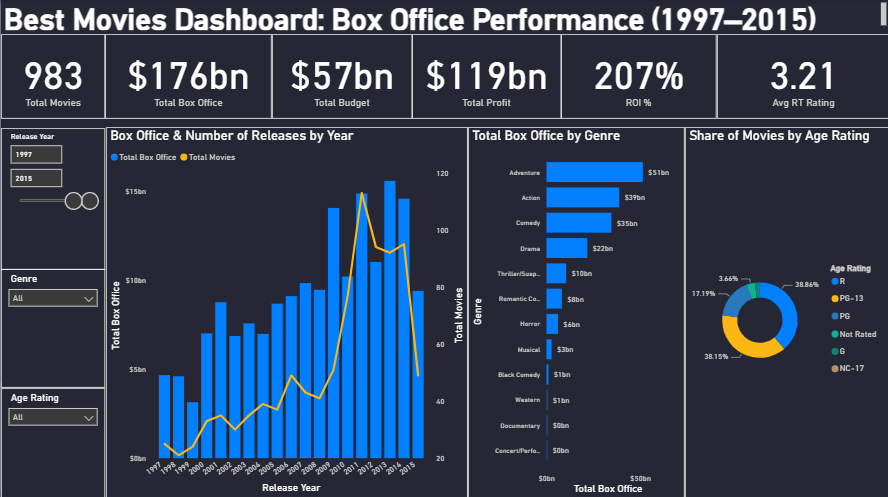

What the dashboard file says about the page in this screenshot:
{"tool":"powerbi","page":{"name":"Overview","canvas":[1280,720],"ordinal":0},"visuals":[{"type":"textbox","box":[0,0,1280,50],"z":0},{"type":"card","fields":{"Values":["Movies Measures.Total Movies"]},"box":[0,50.1,150.4,122.1],"z":1000},{"type":"card","fields":{"Values":["Movies Measures.Total Box Office"]},"box":[150.4,50.1,240.3,122.1],"z":2000},{"type":"card","fields":{"Values":["Movies Measures.Total Budget"]},"box":[390.7,50.1,201.8,122.1],"z":3000},{"type":"card","fields":{"Values":["Movies Measures.Total Profit"]},"box":[592.4,50.1,214.6,122.1],"z":4000},{"type":"card","fields":{"Values":["Movies Measures.ROI %"]},"box":[807.1,50.1,223.6,122.1],"z":5000},{"type":"card","fields":{"Values":["Movies Measures.Avg RT Rating"]},"box":[1030.7,50.1,249.3,122.1],"z":6000},{"type":"slicer","fields":{"Values":["Movies.Release Year"]},"box":[0,185.1,150.4,204.3],"z":7000},{"type":"slicer","fields":{"Values":["Movies.Genre"]},"box":[0,389.4,150.4,170.9],"z":8000},{"type":"slicer","fields":{"Values":["Movies.Age Rating"]},"box":[0,560.3,150.4,159.4],"z":9000},{"type":"lineClusteredColumnComboChart","title":"Box Office & Number of Releases by Year","fields":{"Category":["Movies.Release Year"],"Y":["Movies Measures.Total Box Office"],"Y2":["Movies Measures.Total Movies"]},"box":[151.2,184.8,520.7,534.2],"z":10000},{"type":"clusteredBarChart","fields":{"Category":["Movies.Genre"],"Y":["Movies Measures.Total Box Office"]},"box":[671.9,184.8,312.4,534.2],"z":11000},{"type":"donutChart","title":"Share of Movies by Age Rating","fields":{"Category":["Movies.Age Rating"],"Y":["Movies Measures.Total Movies"]},"box":[984.4,184.8,295.6,534.2],"z":12000}]}

Visuals, with their boxes in screenshot pixels (x1, y1, x2, y2), scaled from the page's 1280x720 canvas onto the 888x497 screenshot:
textbox: [left=0, top=0, right=887, bottom=35]
card - Movies Measures.Total Movies: [left=0, top=35, right=104, bottom=119]
card - Movies Measures.Total Box Office: [left=104, top=35, right=271, bottom=119]
card - Movies Measures.Total Budget: [left=271, top=35, right=411, bottom=119]
card - Movies Measures.Total Profit: [left=411, top=35, right=560, bottom=119]
card - Movies Measures.ROI %: [left=560, top=35, right=715, bottom=119]
card - Movies Measures.Avg RT Rating: [left=715, top=35, right=887, bottom=119]
slicer - Movies.Release Year: [left=0, top=128, right=104, bottom=269]
slicer - Movies.Genre: [left=0, top=269, right=104, bottom=387]
slicer - Movies.Age Rating: [left=0, top=387, right=104, bottom=496]
"Box Office & Number of Releases by Year" lineClusteredColumnComboChart: [left=105, top=128, right=466, bottom=496]
clusteredBarChart - Movies.Genre x Movies Measures.Total Box Office: [left=466, top=128, right=683, bottom=496]
"Share of Movies by Age Rating" donutChart: [left=683, top=128, right=887, bottom=496]
